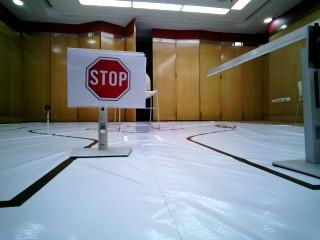stop: (73, 49, 143, 106)
